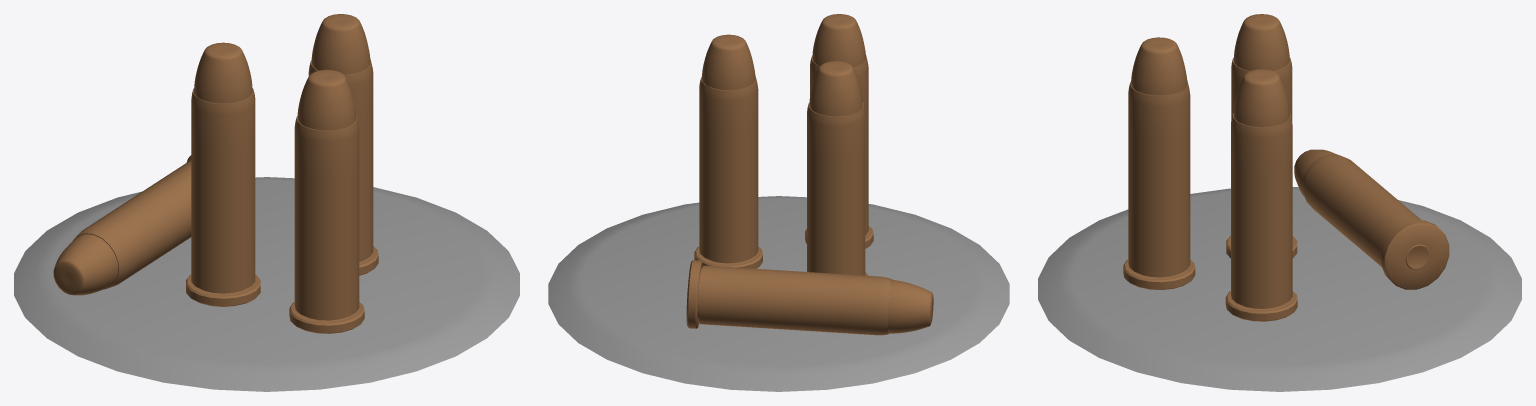
The picture shows the model from 3 angles, left to right: view 1: azimuth 30°, elevation 25°; view 2: azimuth 150°, elevation 25°; view 3: azimuth 270°, elevation 25°; orthographic projection. The views are drawn at different scales.
Parts seen in each view (by area): view 1: Cylinder001, bullet_mesh003, bullet_mesh, bullet_mesh001, bullet_mesh002; view 2: Cylinder001, bullet_mesh001, bullet_mesh002, bullet_mesh, bullet_mesh003; view 3: Cylinder001, bullet_mesh003, bullet_mesh002, bullet_mesh001, bullet_mesh.
Part boxes in pixels (x1=…): Cylinder001: x1=14, y1=177, x2=519, y2=391; bullet_mesh003: x1=289, y1=69, x2=364, y2=333; bullet_mesh: x1=186, y1=42, x2=260, y2=306; bullet_mesh001: x1=53, y1=155, x2=191, y2=295; bullet_mesh002: x1=308, y1=14, x2=378, y2=275; Cylinder001: x1=548, y1=196, x2=1009, y2=391; bullet_mesh001: x1=686, y1=260, x2=933, y2=335; bullet_mesh002: x1=694, y1=34, x2=762, y2=268; bullet_mesh: x1=807, y1=61, x2=868, y2=275; bullet_mesh003: x1=805, y1=14, x2=873, y2=248; Cylinder001: x1=1038, y1=187, x2=1521, y2=391; bullet_mesh003: x1=1123, y1=37, x2=1195, y2=289; bullet_mesh002: x1=1225, y1=69, x2=1297, y2=321; bullet_mesh001: x1=1294, y1=149, x2=1449, y2=289; bullet_mesh: x1=1226, y1=14, x2=1297, y2=258.
Size of the model in its own units: 951 by 527 by 946.
